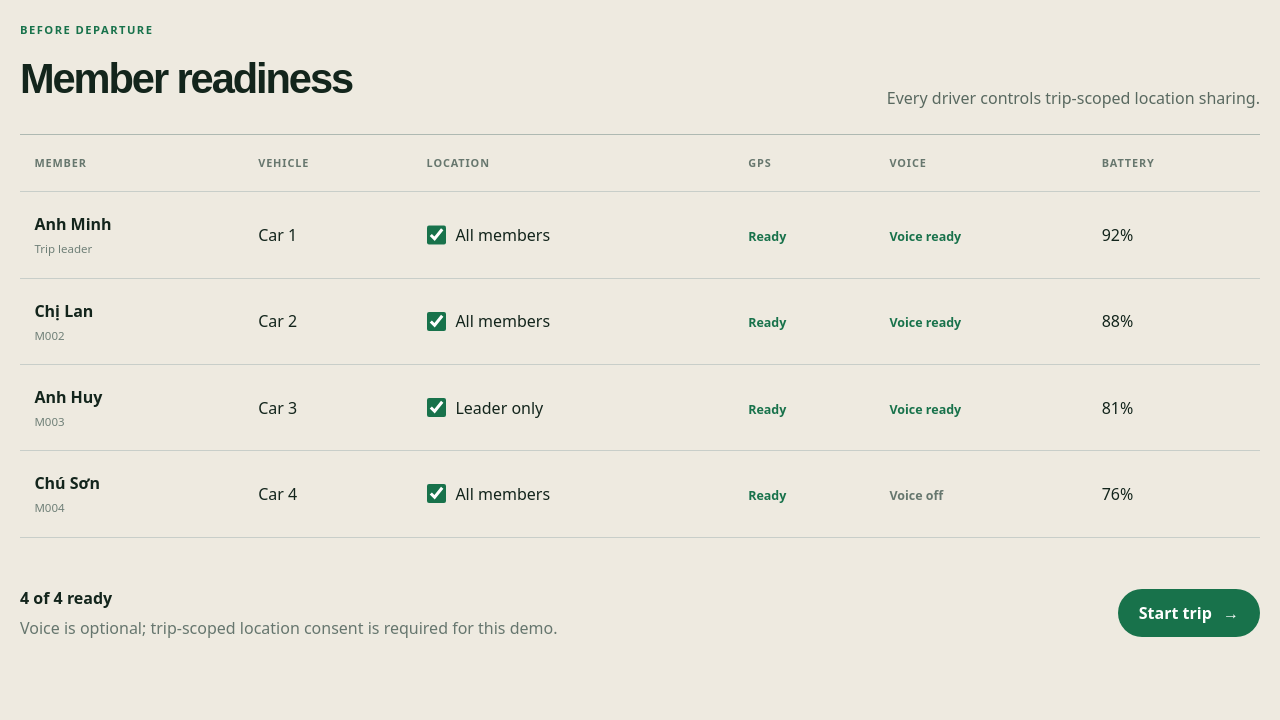
Test: TripSetupPage › blocks launch when required location consent is disabled
The width and height of the screenshot is (1280, 720).
(page scrolled)
Expected: the button "Start trip →" is enabled, [1118, 589, 1260, 637]
Click the checkbox named "share location for anh huy" at (436, 408), box [427, 398, 446, 417]
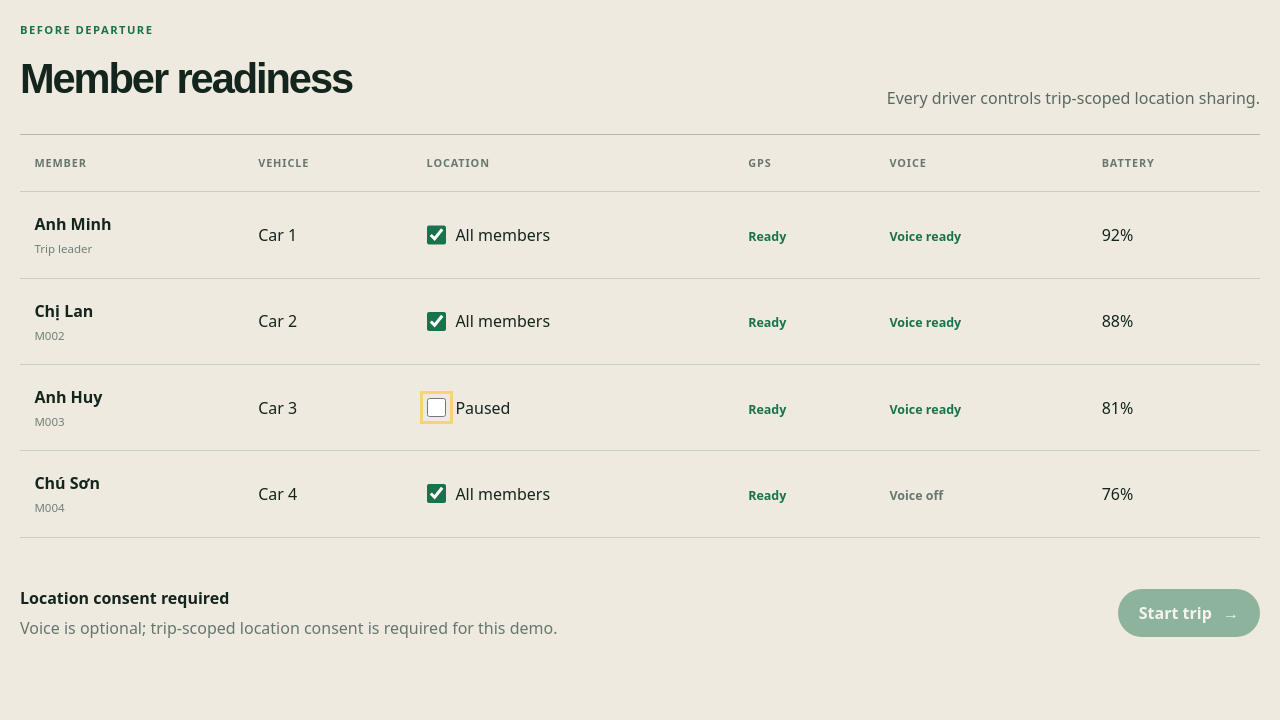
Now the button "Start trip →" is disabled, box [1118, 589, 1260, 637]
Click the checkbox named "share location for anh huy" at (436, 408), box [427, 398, 446, 417]
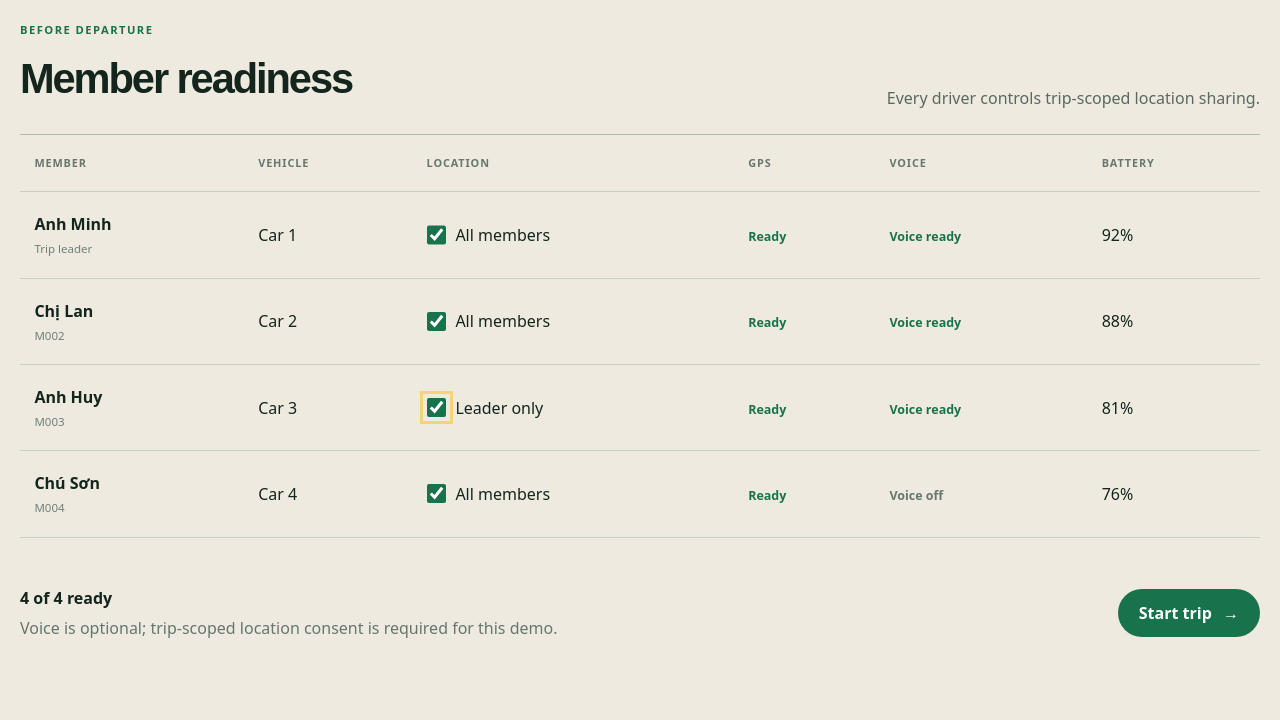
Now the button "Start trip →" is enabled, box [1118, 589, 1260, 637]
